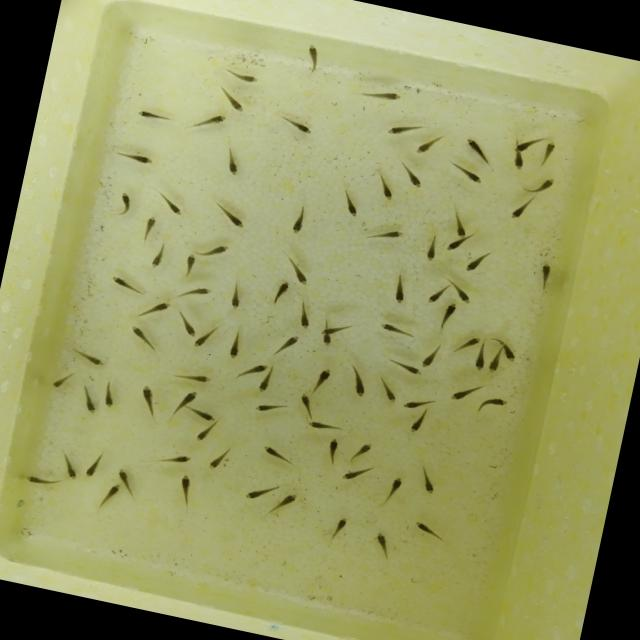fingerling: (205, 197, 250, 230), (276, 248, 315, 286), (256, 438, 299, 472), (132, 382, 166, 424), (352, 82, 405, 108), (504, 190, 542, 225), (340, 358, 372, 399), (148, 186, 189, 218), (443, 159, 487, 187), (19, 469, 68, 494), (111, 145, 158, 171), (210, 83, 248, 115), (201, 442, 236, 476), (362, 221, 406, 248), (283, 202, 314, 240), (273, 110, 316, 137), (188, 107, 228, 136), (167, 366, 215, 390), (168, 281, 209, 309), (152, 446, 196, 472), (78, 446, 108, 484), (376, 472, 406, 510), (316, 315, 351, 347), (52, 447, 84, 482), (92, 479, 124, 514), (392, 158, 428, 189), (135, 296, 172, 326), (336, 460, 374, 489), (413, 128, 447, 160), (304, 364, 336, 398), (459, 135, 494, 166), (412, 463, 442, 498), (398, 389, 438, 415), (167, 387, 198, 420), (270, 328, 300, 362), (128, 324, 162, 354), (382, 116, 421, 142), (106, 272, 148, 296), (74, 380, 102, 416), (408, 519, 448, 544), (463, 244, 494, 276), (476, 391, 508, 422), (519, 172, 556, 198), (336, 188, 366, 220), (373, 373, 402, 406), (446, 330, 480, 358), (244, 478, 278, 506), (446, 380, 480, 408), (445, 205, 472, 240), (172, 472, 198, 508), (216, 147, 246, 178), (196, 236, 229, 264), (266, 276, 294, 309), (220, 66, 262, 88), (300, 38, 324, 76), (347, 436, 378, 465), (512, 129, 544, 157), (192, 319, 220, 351), (132, 105, 174, 126), (169, 306, 198, 336), (418, 229, 442, 265), (325, 514, 352, 546), (225, 326, 249, 362), (111, 188, 136, 222), (190, 417, 219, 446), (386, 269, 410, 304), (443, 276, 473, 304), (272, 489, 300, 519), (147, 238, 171, 272), (318, 436, 342, 470), (72, 348, 107, 371), (436, 300, 461, 332), (44, 367, 74, 393), (305, 416, 346, 435), (426, 278, 452, 306), (370, 530, 396, 558), (136, 212, 158, 245), (374, 174, 398, 204), (97, 378, 120, 409), (534, 260, 556, 292), (291, 390, 316, 418), (224, 274, 244, 308), (252, 398, 286, 418), (406, 408, 430, 436), (417, 344, 440, 372), (292, 306, 314, 334), (388, 358, 422, 376), (378, 320, 412, 338), (537, 140, 557, 170), (180, 250, 198, 282), (111, 464, 137, 486), (190, 404, 218, 424), (470, 346, 489, 374), (255, 369, 274, 396), (247, 356, 270, 377), (442, 238, 465, 256), (485, 353, 502, 376), (509, 152, 528, 172), (500, 345, 521, 363)
